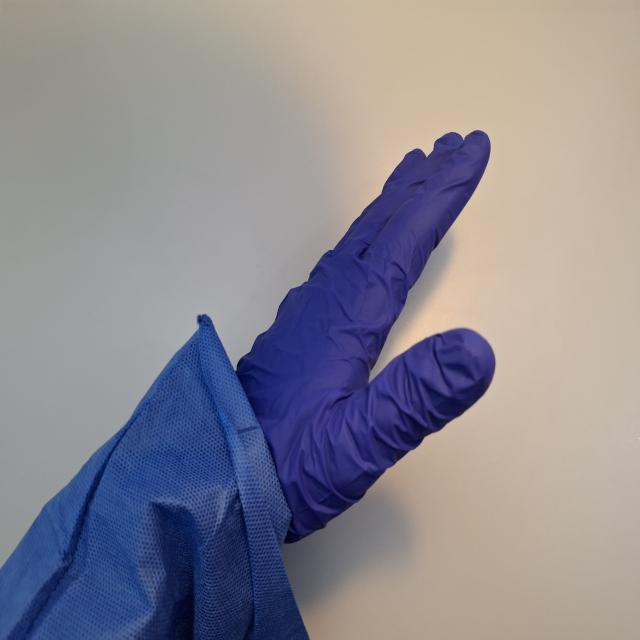glove_on: (213, 126, 498, 570)
